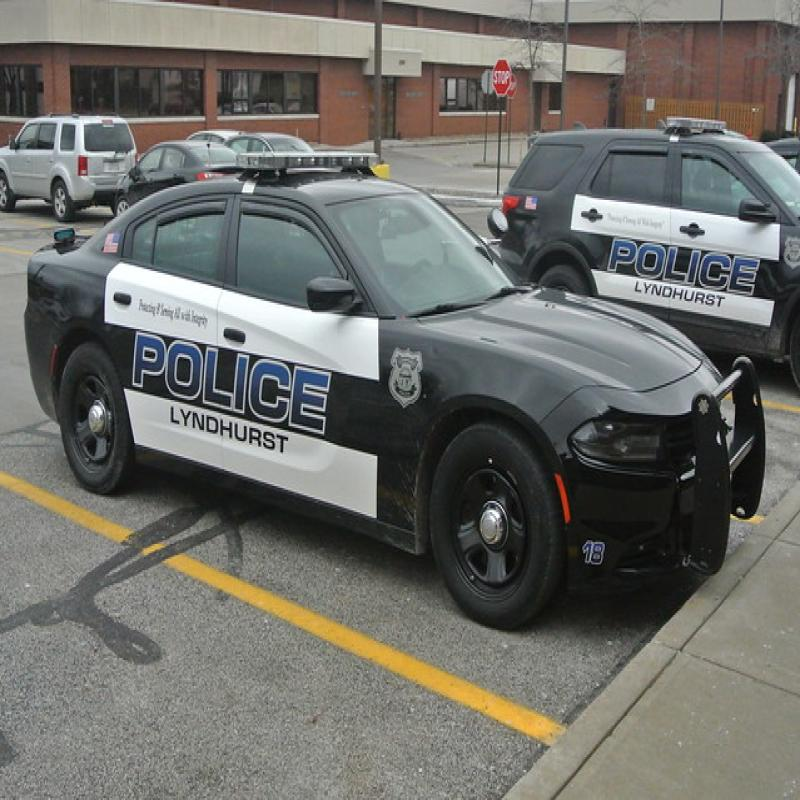AmbulanceSiren: (229, 126, 389, 193)
